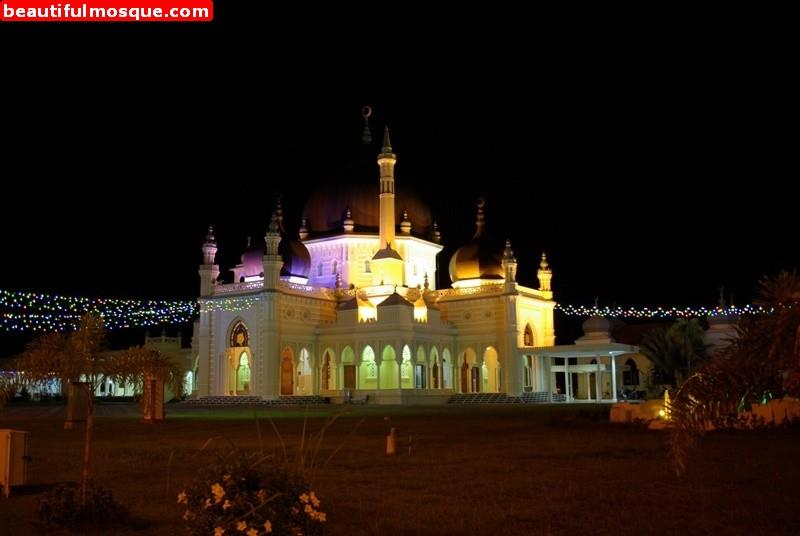Mosque: (175, 119, 560, 393)
